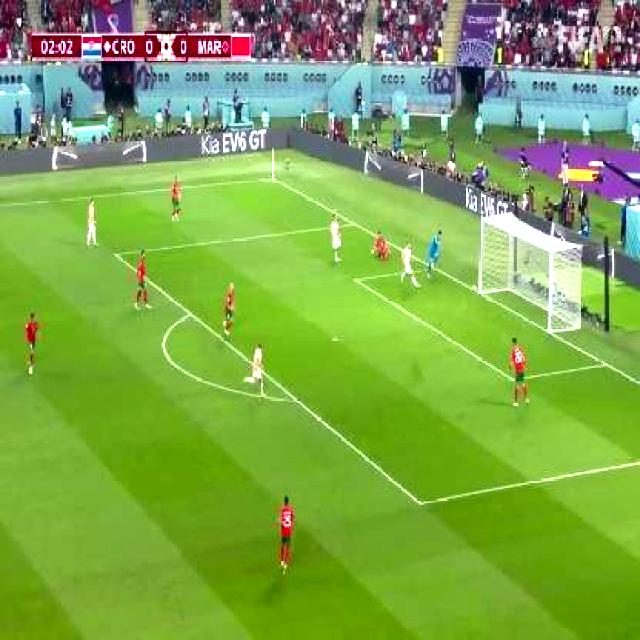bigarea_bottom_inner: (412, 490, 428, 516)
bigarea_top_inner: (111, 248, 120, 262)
bigarea_top_outter: (349, 218, 357, 230)
bottom_arc_area_intersection: (291, 392, 300, 408)
corner: (266, 174, 276, 181)
smallarea_bottom_outter: (598, 356, 611, 372)
smallarea_top_inner: (349, 272, 358, 286)
top_arc_area_intersection: (184, 304, 193, 322)
